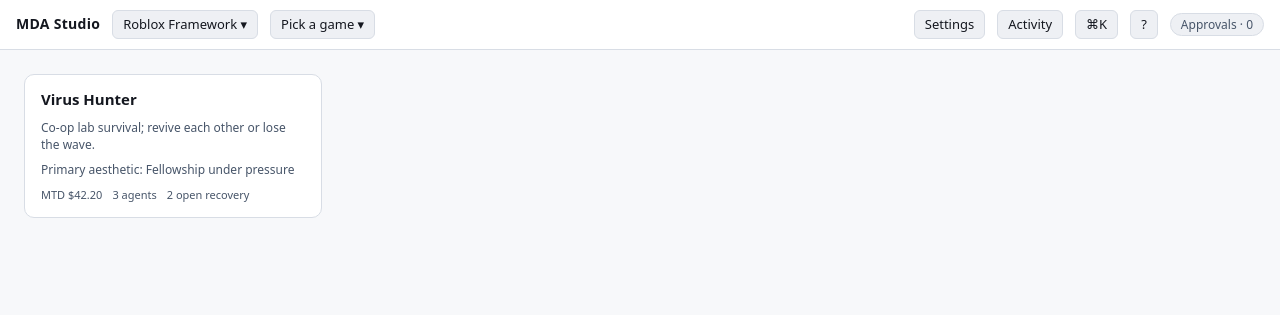
Scenario: App › opens the spec tree when a game card is clicked
Step 1. Click the text "Virus Hunter" → (89, 100), box [41,89,137,111]
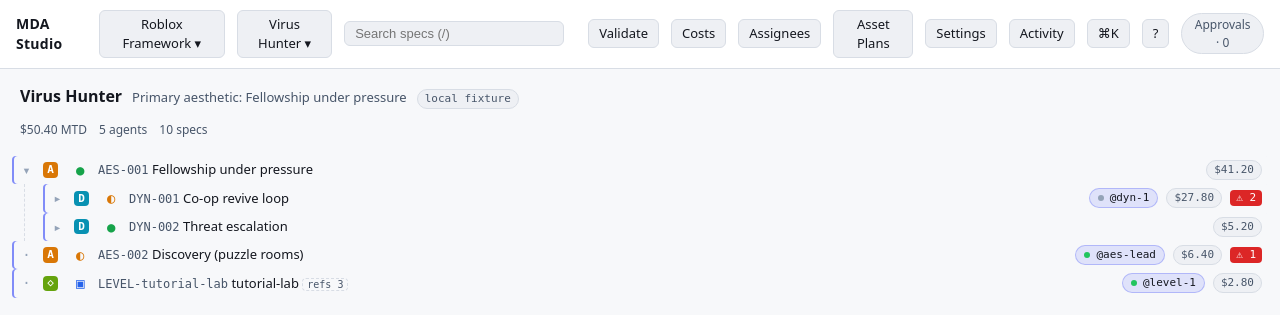
Check: the list is shown, box [12,156,1268,298]
Check: the text "AES-001" is shown, box [98,164,149,178]
